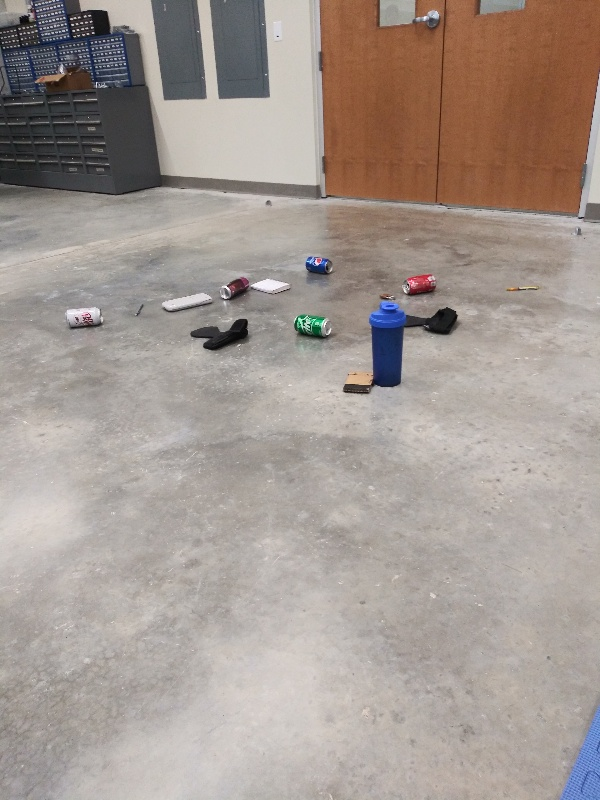can: (60, 304, 109, 327), (399, 270, 440, 297), (291, 311, 336, 335), (216, 274, 251, 302), (301, 252, 336, 277)
